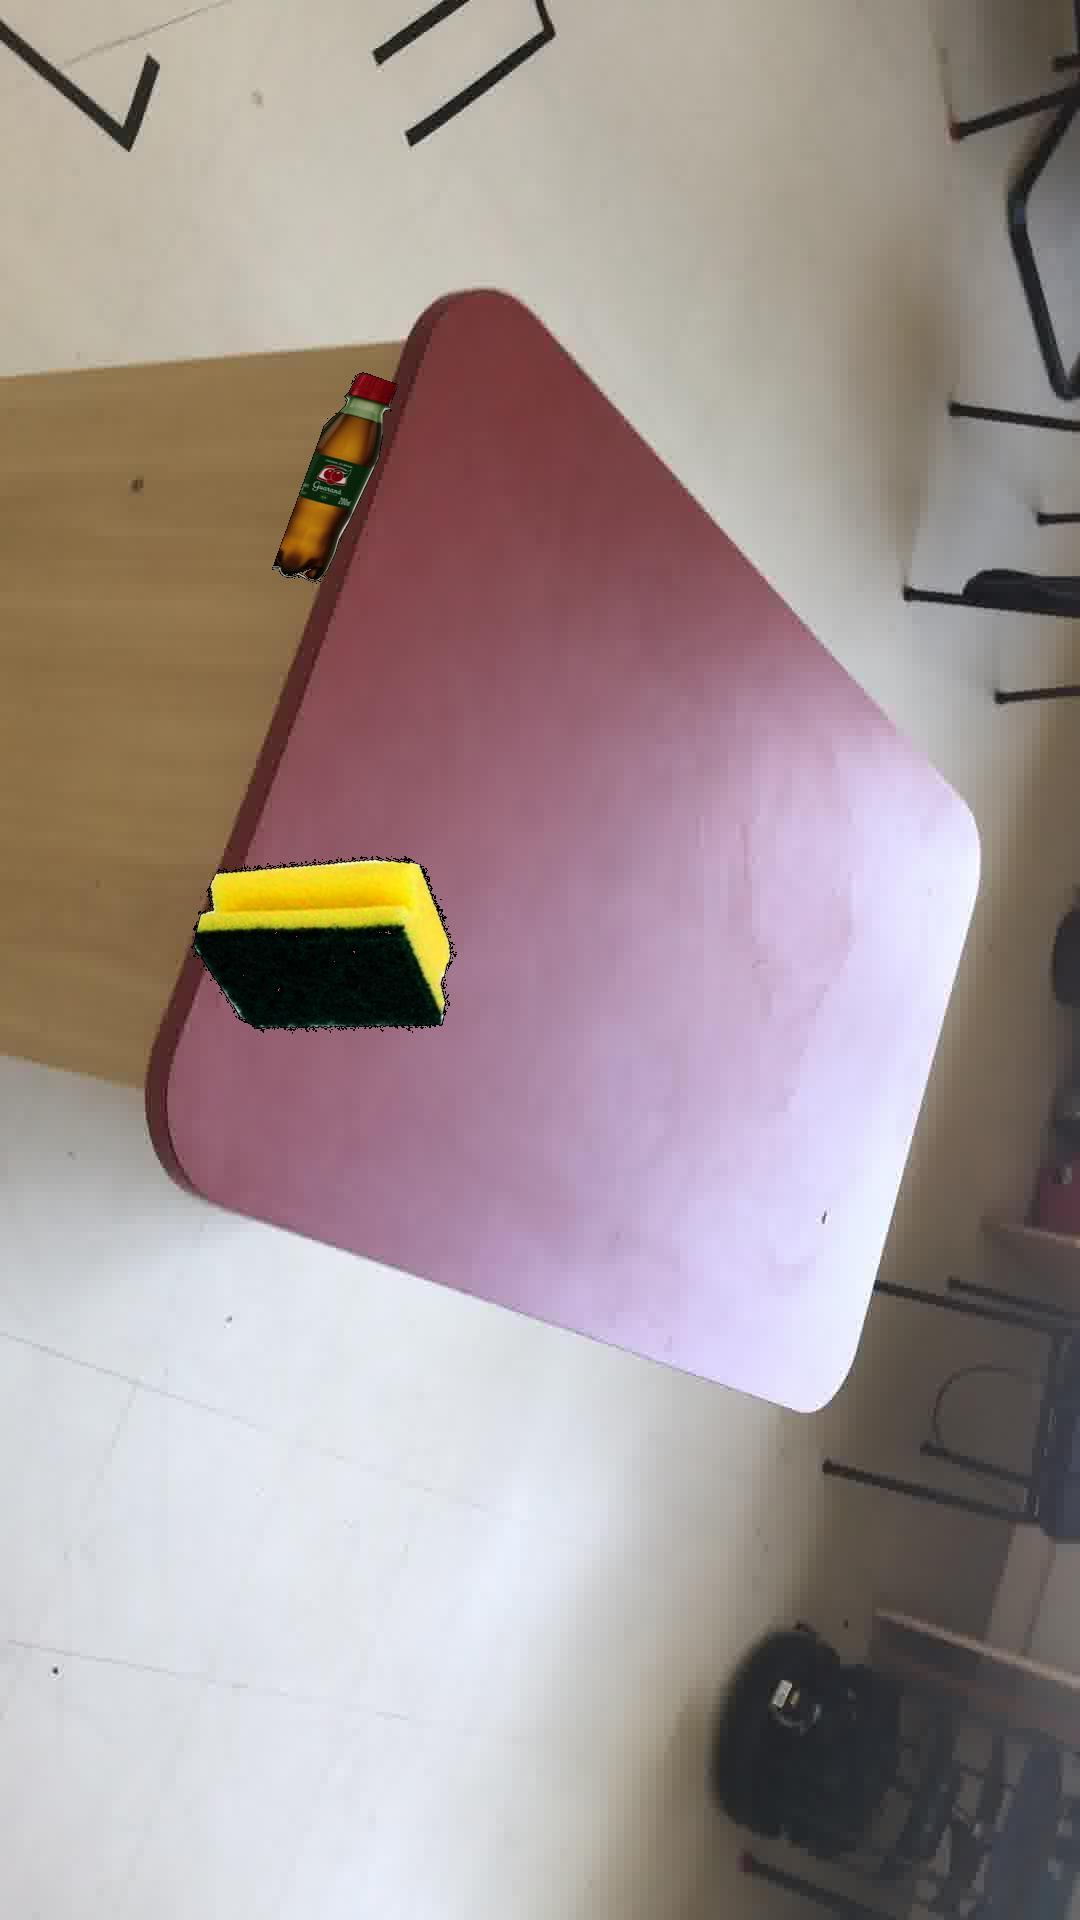guarana: (270, 371, 397, 582)
sponge: (190, 855, 452, 1031)
